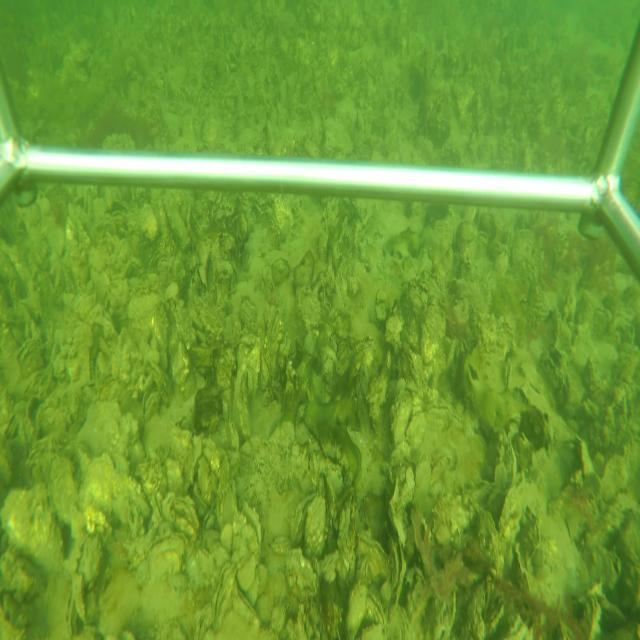Oyster-Closed: (136, 529, 189, 584), (211, 560, 234, 632), (391, 390, 412, 446), (390, 534, 406, 605), (244, 500, 263, 553), (18, 336, 43, 372)
Oyster-Indeterminate: (0, 482, 65, 568), (318, 208, 330, 263)
Oyster-Open: (141, 386, 162, 424), (502, 349, 515, 392)
